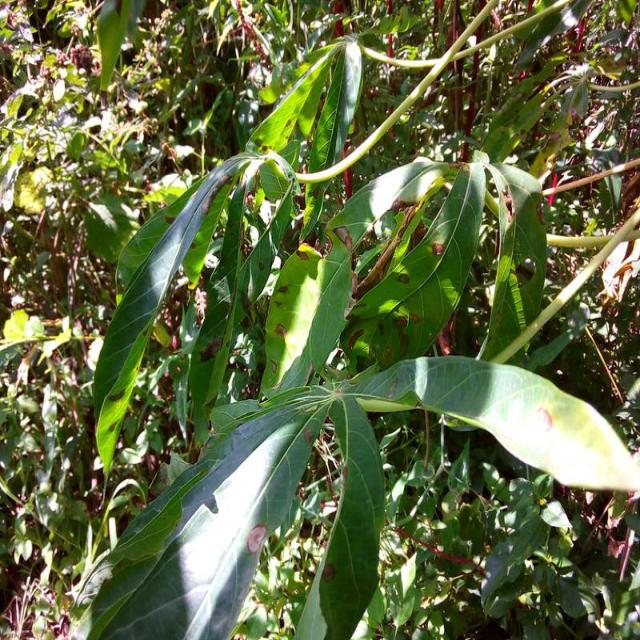cassava leaf: (69, 15, 636, 638), (91, 148, 300, 476), (67, 385, 332, 638), (348, 353, 638, 494), (339, 160, 486, 372), (258, 226, 352, 400)
